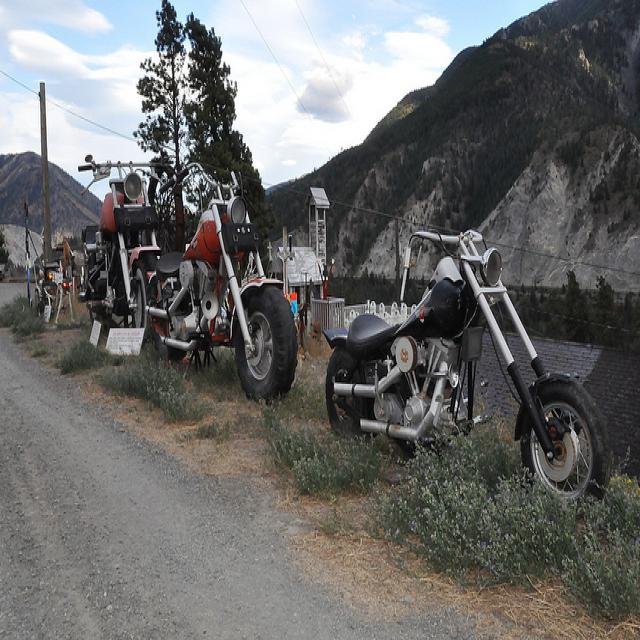motor: (323, 229, 614, 500), (146, 161, 298, 402), (78, 157, 167, 344)
